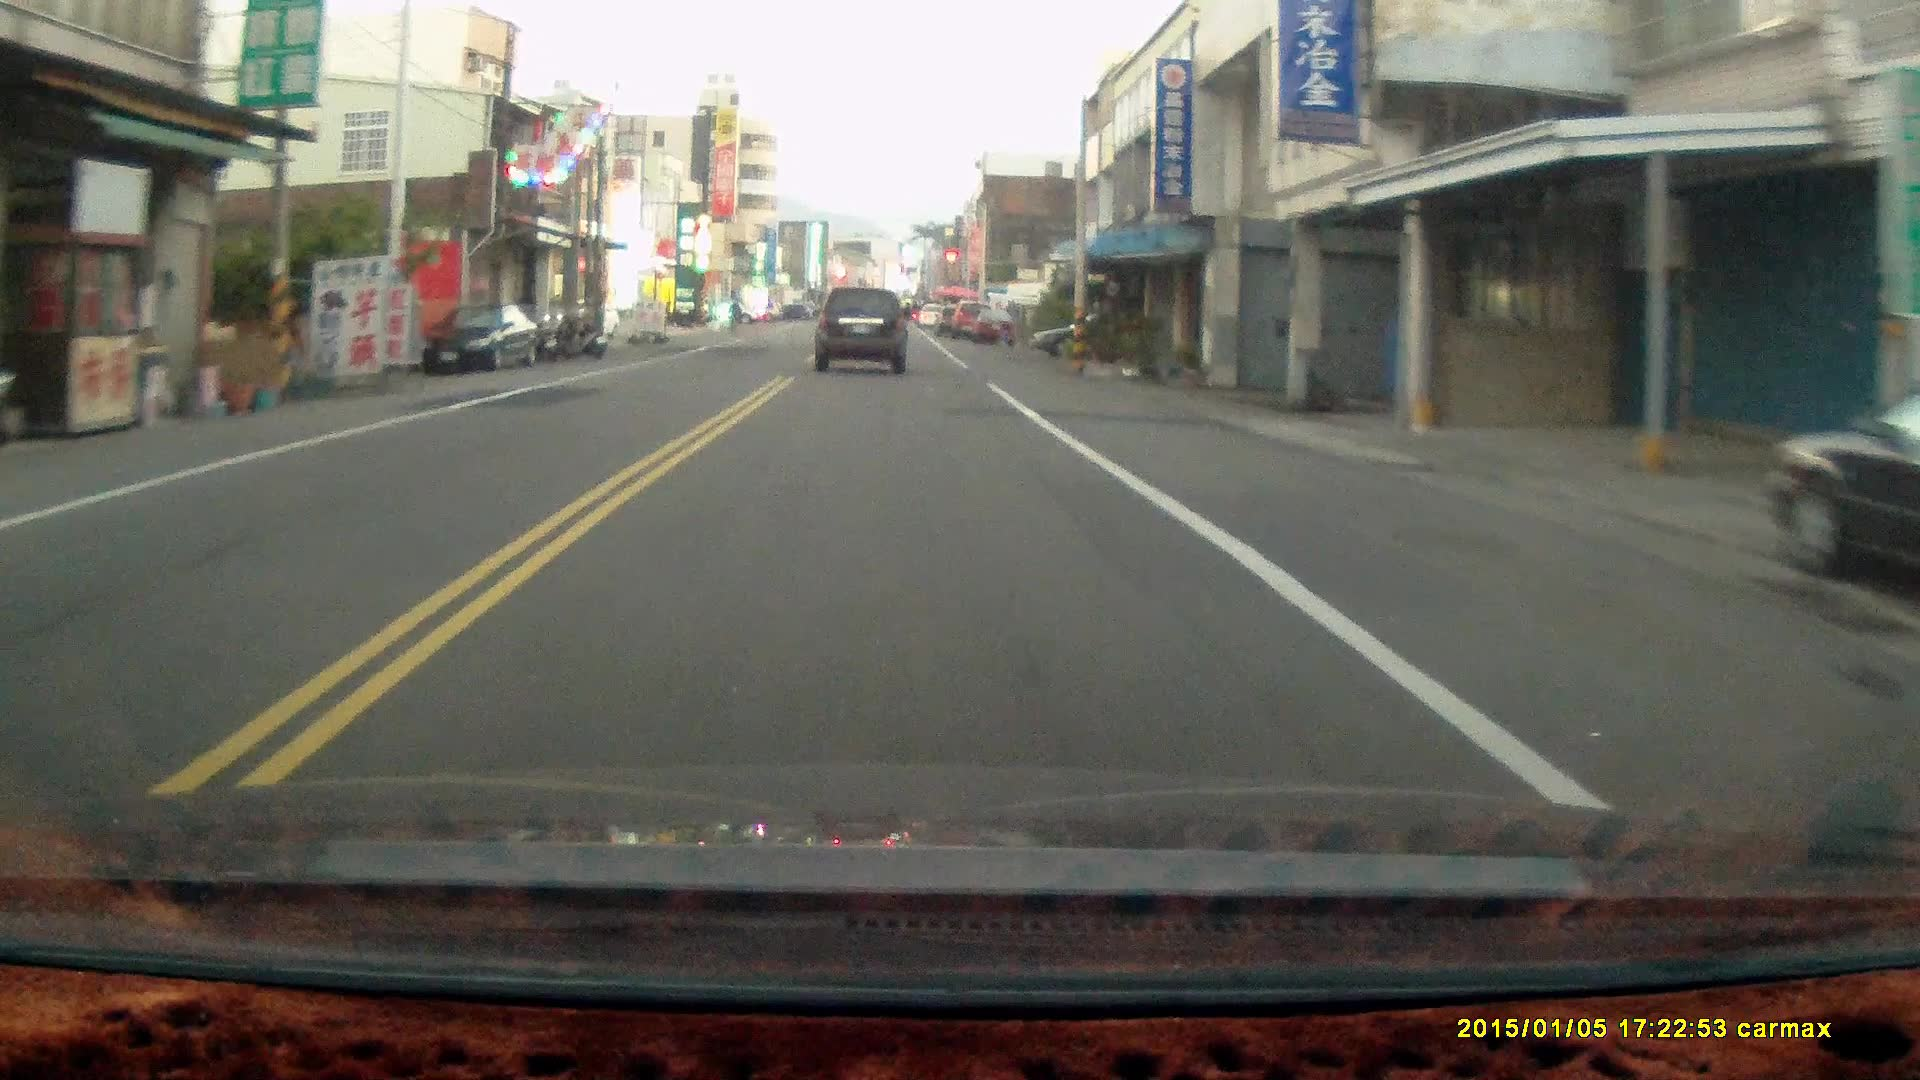vehicle: (1764, 363, 1920, 604), (419, 298, 543, 373), (816, 285, 910, 375)
